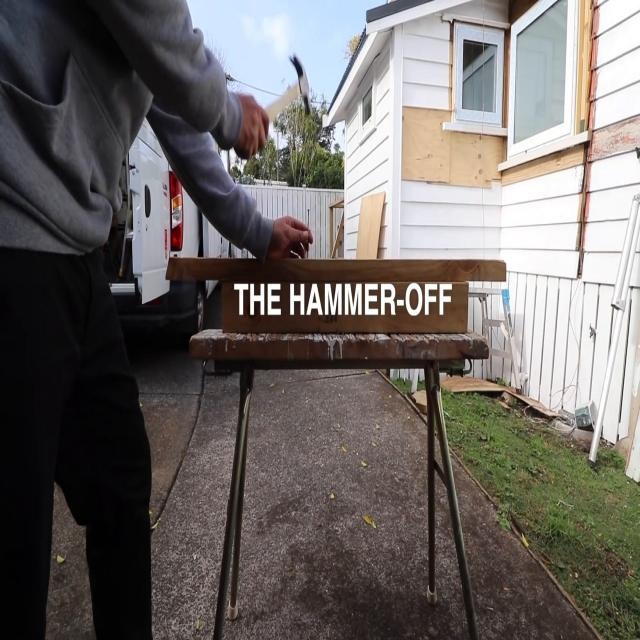hammer: (266, 54, 310, 122)
